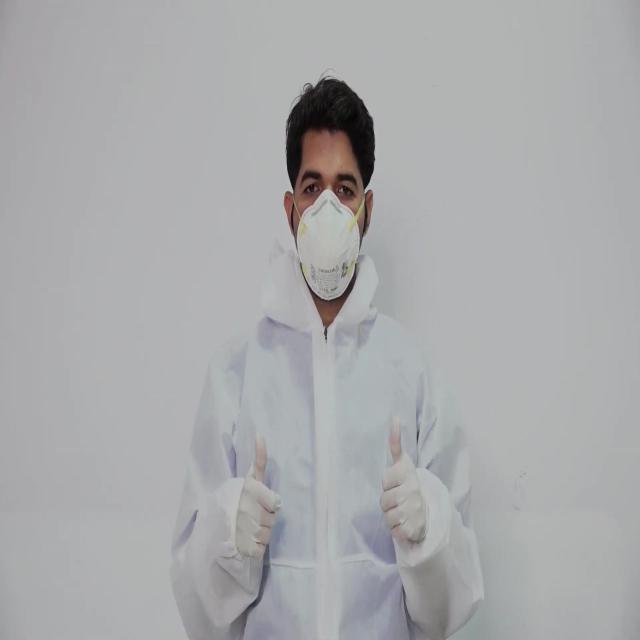gloves: (378, 416, 428, 547), (235, 430, 282, 560)
